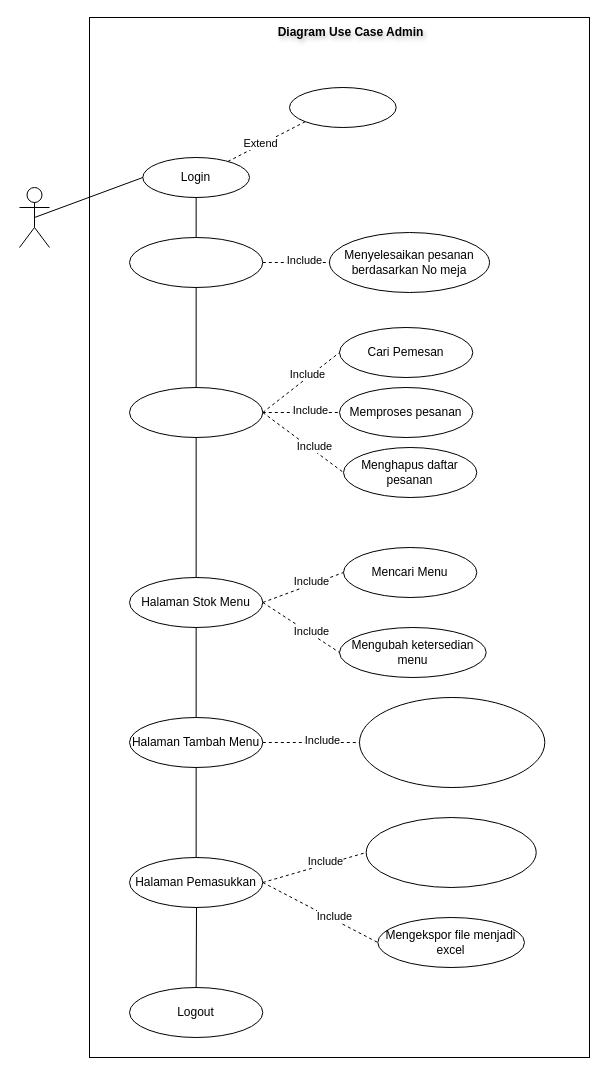
Some shapes in this 607 by 1075 pixel diagram are drawn without their labels. The shapes that lost their labels are listed below. From the top down, each one's centre as x and y in pixels, then its label:
point (342, 107): Register
point (34, 217): Admin
point (195, 262): Halaman Dashboard
point (195, 412): Halaman Pesanan
point (451, 742): Memasukkan Nama, Harga, Tipe makanan/minuman, dan gambar
point (450, 852): Mencari data pemesan berdasarkan nama/no meja
